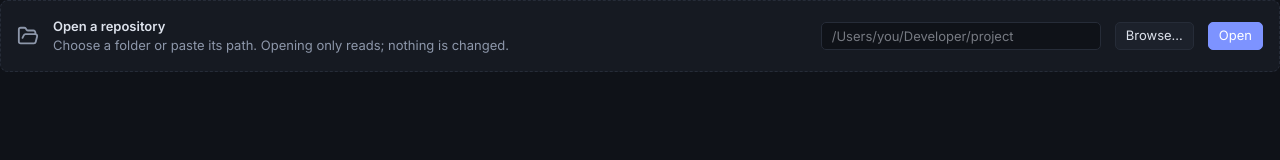
Scenario: backend validation message is shown
The image size is (1280, 160).
Type "/tmp/x" into the field named "Repository path" at (961, 36), box [821, 22, 1101, 50]
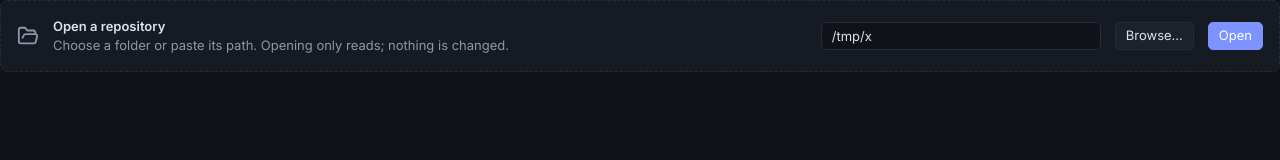
Click the button "Open" at (1235, 36), box [1208, 22, 1263, 50]
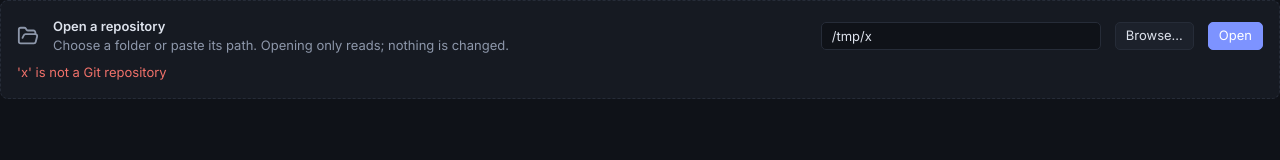
Now the message shows "not a Git repository", box [17, 64, 167, 80]
